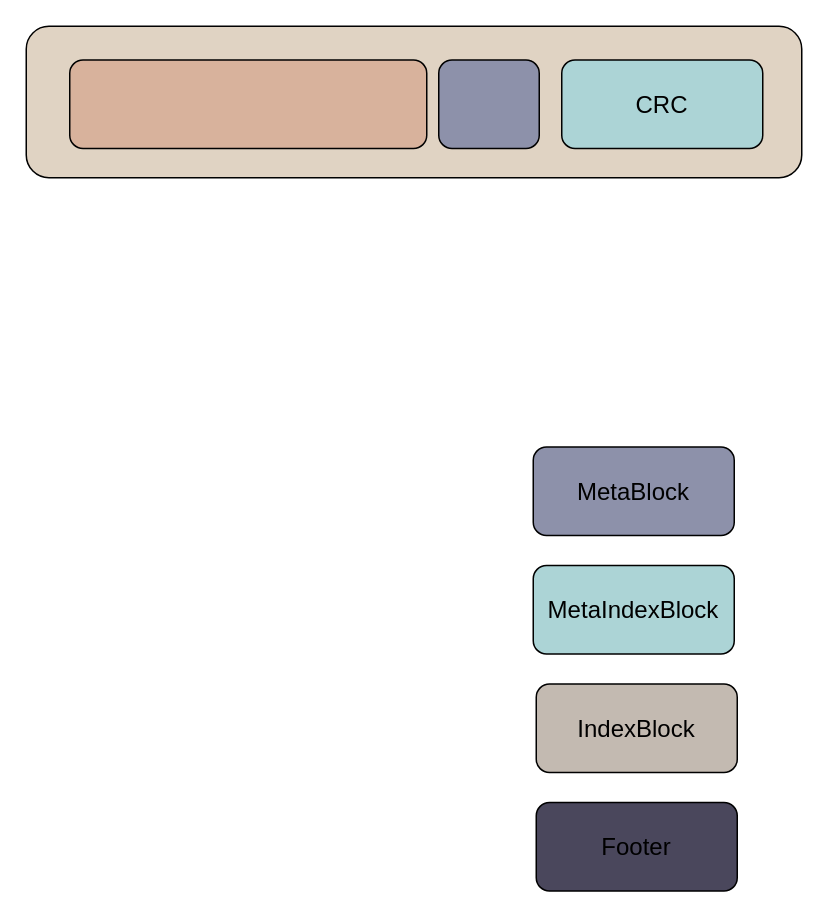
The diagram is 828 pixels wide and 918 high, and some of its shapes have lost their labels. Each missing label, with the centre of its shape:
Data: the point at 247,103
Type: the point at 488,103
